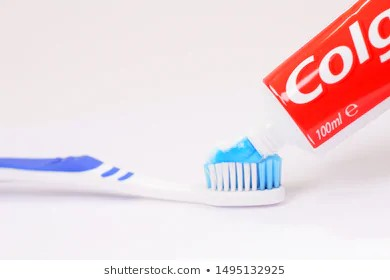toothbrush: (1, 125, 290, 222)
